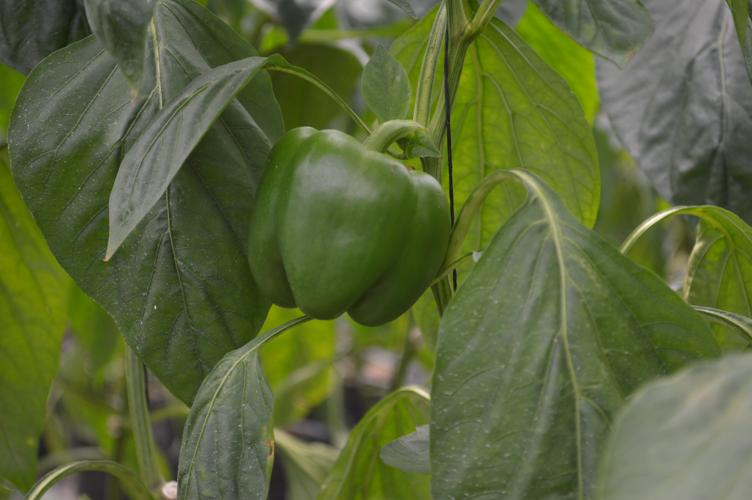BellPepper: (248, 128, 451, 329)
